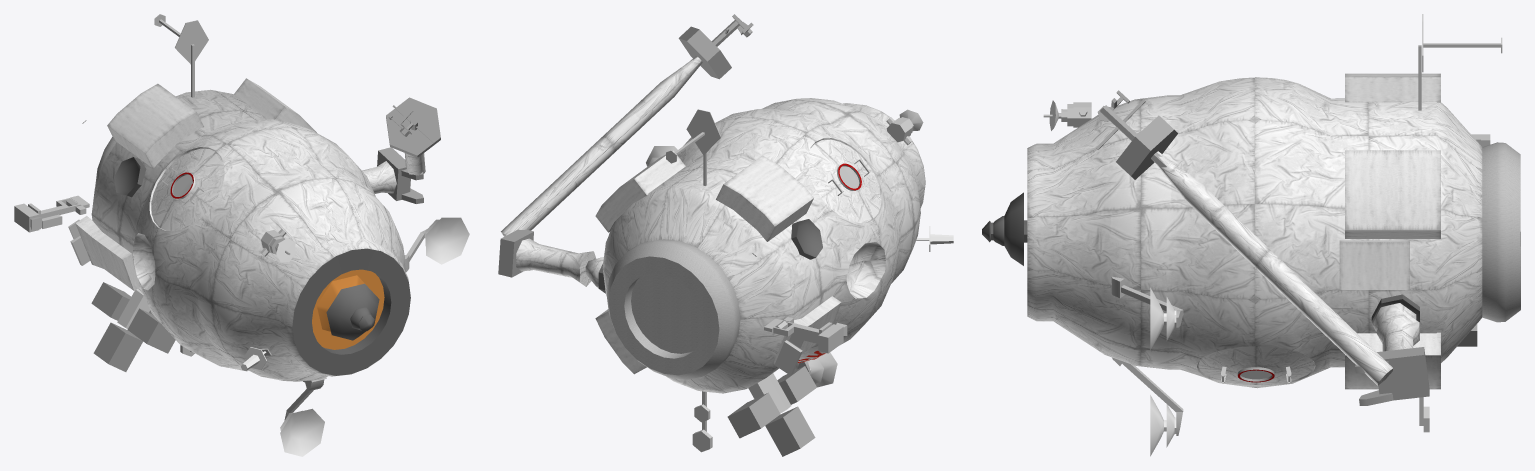
Rendered from MRM2.FBX.
3 views of the same model, side by side, from view 1: azimuth 30°, elevation 25°; view 2: azimuth 150°, elevation 25°; view 3: azimuth 270°, elevation 25° (orthographic). The views are drawn at different scales.
Visible parts, largest first — view 1: MRM2; view 2: MRM2; view 3: MRM2.
Boxes of the visible parts, box(x1,y1,x2,y2) form: MRM2: box(14, 14, 469, 456); MRM2: box(498, 14, 953, 456); MRM2: box(982, 14, 1520, 456).
Bounding box in the file's own units: 4.11 × 3.8 × 4.23.
Materials: 11 (4 with a texture image).
